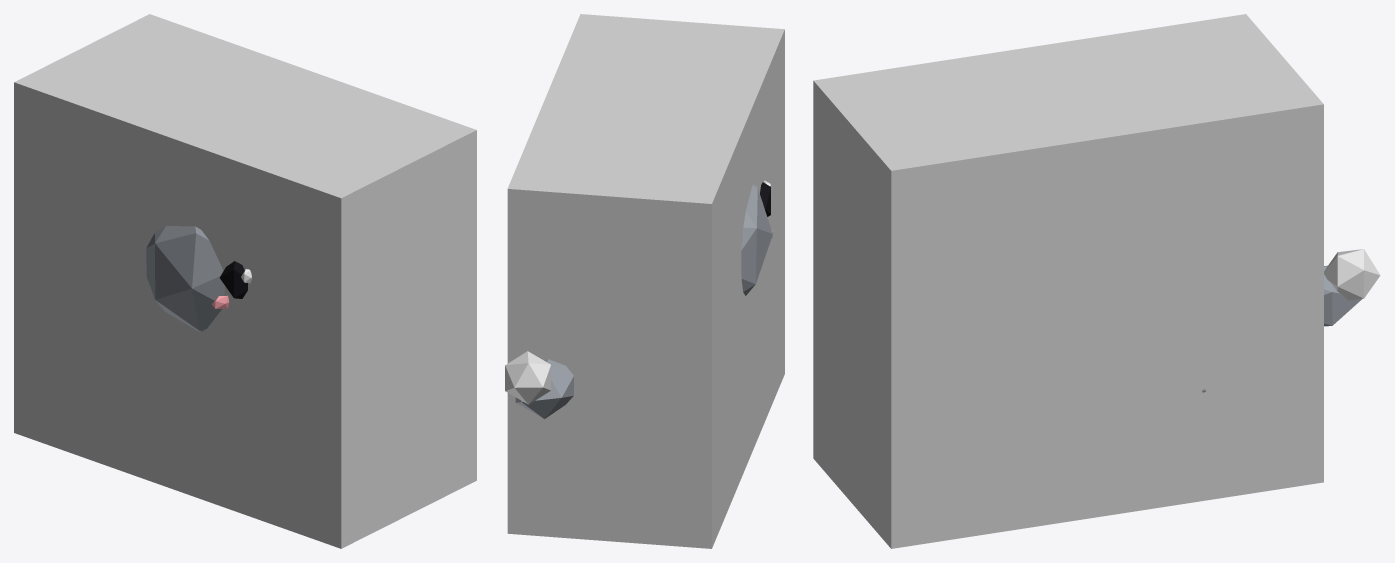
Rendered from plains_pet2.fbx.
The picture shows the model from 3 angles, left to right: view 1: azimuth 30°, elevation 25°; view 2: azimuth 150°, elevation 25°; view 3: azimuth 270°, elevation 25°; orthographic projection. The views are drawn at different scales.
Parts seen in each view (by area): view 1: Root__0.00_0.47_0.10__0.52_0.95_1.05, Head__Body__0.00_0.42_-0.08; view 2: Root__0.00_0.47_0.10__0.52_0.95_1.05, Tail__Body__0.00_0.34_0.34, Head__Body__0.00_0.42_-0.08; view 3: Root__0.00_0.47_0.10__0.52_0.95_1.05, Tail__Body__0.00_0.34_0.34.
Part boxes in pixels (x1=…): Root__0.00_0.47_0.10__0.52_0.95_1.05: x1=14, y1=14, x2=476, y2=548; Head__Body__0.00_0.42_-0.08: x1=146, y1=226, x2=251, y2=331; Root__0.00_0.47_0.10__0.52_0.95_1.05: x1=507, y1=14, x2=784, y2=548; Tail__Body__0.00_0.34_0.34: x1=505, y1=351, x2=573, y2=418; Head__Body__0.00_0.42_-0.08: x1=741, y1=180, x2=772, y2=295; Root__0.00_0.47_0.10__0.52_0.95_1.05: x1=813, y1=14, x2=1323, y2=548; Tail__Body__0.00_0.34_0.34: x1=1324, y1=249, x2=1380, y2=326.
Bounding box in the file's own units: 23.67 × 26.78 × 36.16.
1 material, 1 textured.
